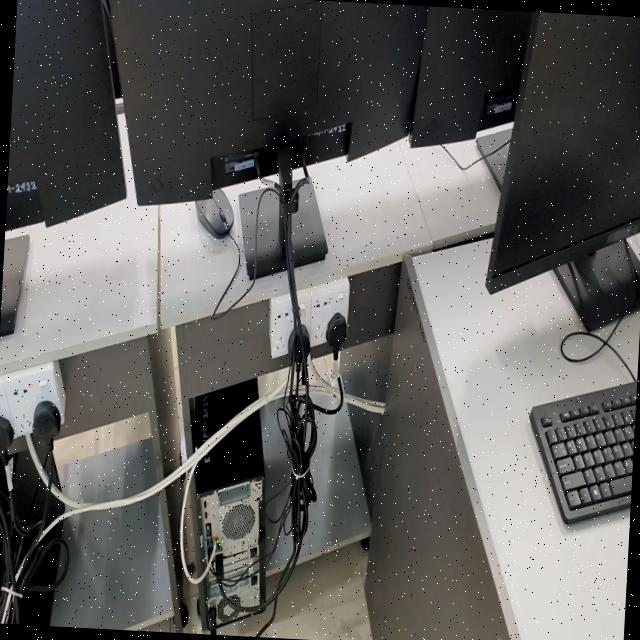Cpu: (192, 373, 264, 634), (0, 443, 66, 626)
Keyboard: (529, 381, 637, 523)
Monitor: (109, 0, 426, 204), (485, 11, 640, 330), (4, 0, 125, 229), (409, 5, 532, 188)
Mouse: (194, 189, 233, 237)
